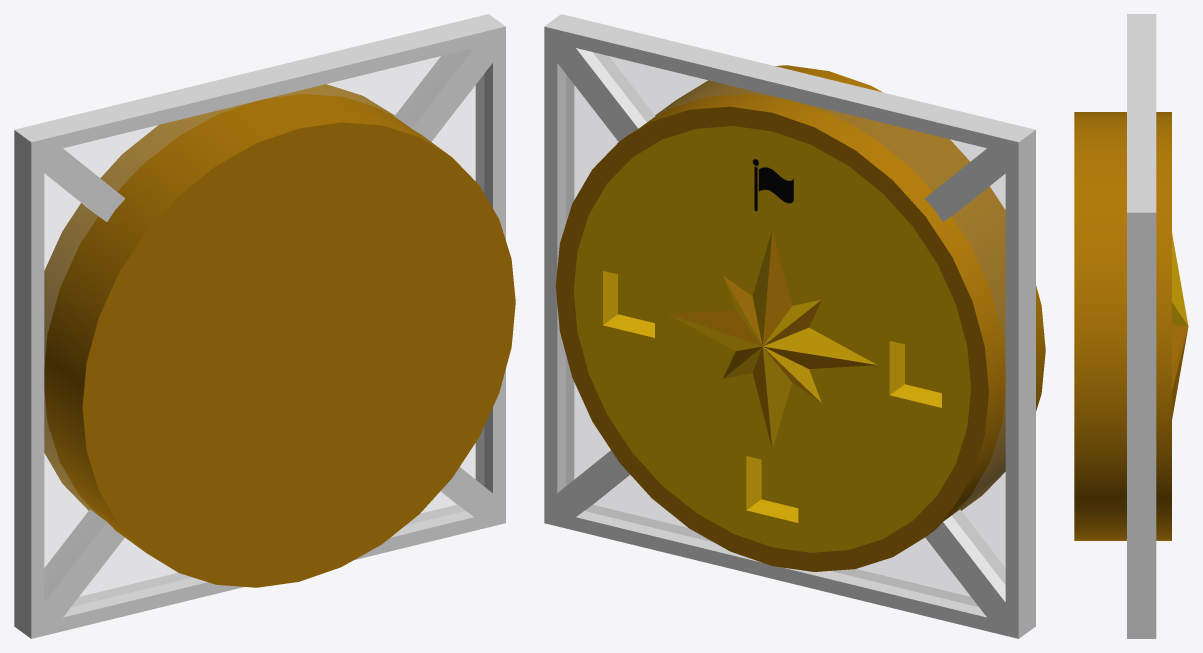
Rendered from mdl_zesty_compasslock.gltf.
The picture shows the model from 3 angles, left to right: view 1: azimuth 30°, elevation 25°; view 2: azimuth 150°, elevation 25°; view 3: azimuth 270°, elevation 25°; orthographic projection. The views are drawn at different scales.
Parts seen in each view (by area): view 1: mdl_zesty_compasslock; view 2: mdl_zesty_compasslock; view 3: mdl_zesty_compasslock.
Boxes of the visible parts, box(x1,y1,x2,y2) form: mdl_zesty_compasslock: box(14, 14, 515, 638); mdl_zesty_compasslock: box(544, 14, 1045, 638); mdl_zesty_compasslock: box(1074, 14, 1188, 638).
Bounding box in the file's own units: 0.3737 × 0.3737 × 0.0906.
5 materials, 1 textured.
